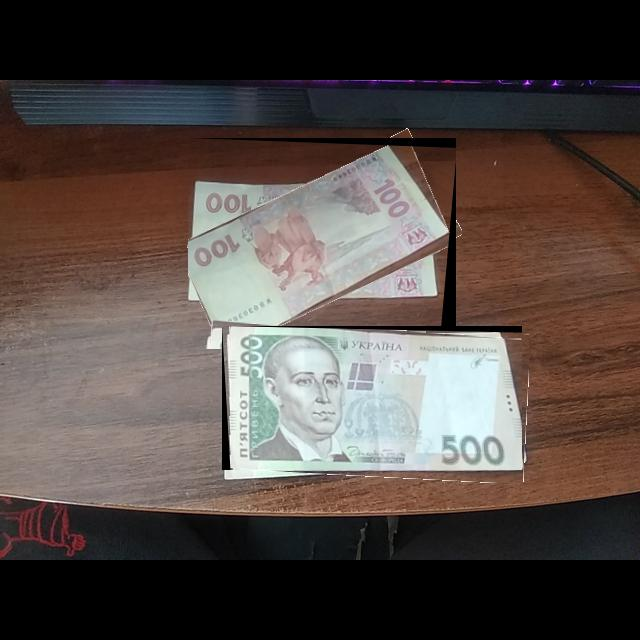100uah: (188, 144, 452, 350)
500uah: (228, 327, 523, 471)
